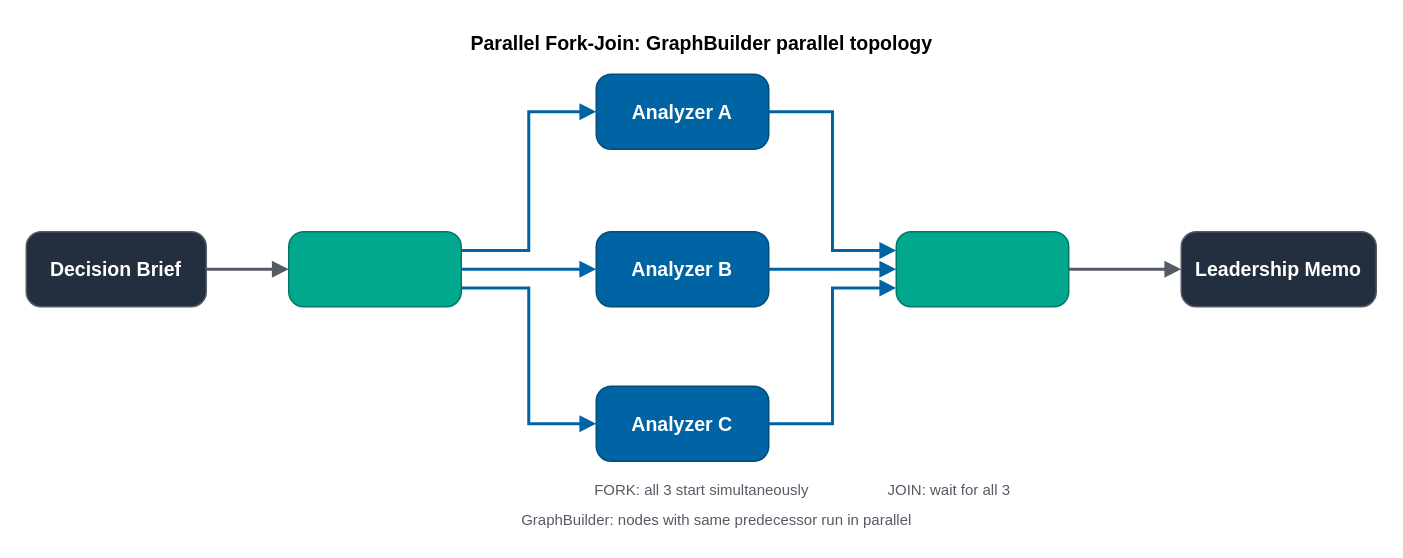
Some shapes in this 1403 by 558 pixel diagram are drawn without their labels. Each missing label, with the centre of its shape:
Researcher: (374,268)
Synthesizer: (982,268)
